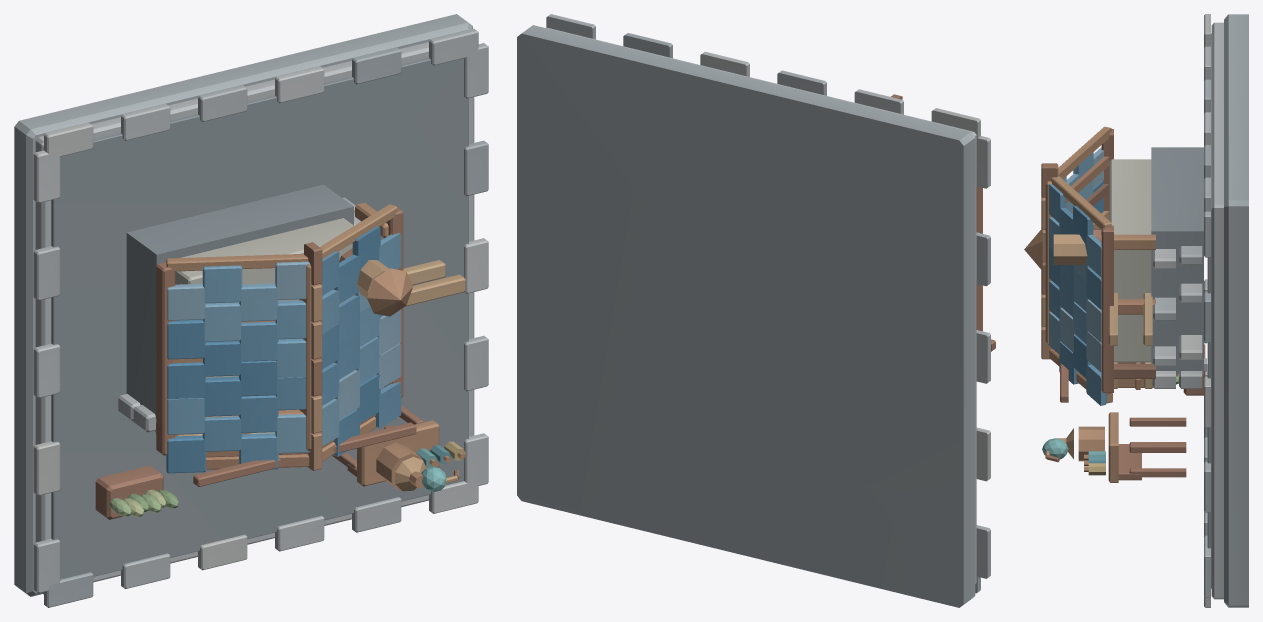
The model's file is alchemy_tower_stage_1.glb.
3 views of the same model, side by side, from view 1: azimuth 30°, elevation 25°; view 2: azimuth 150°, elevation 25°; view 3: azimuth 270°, elevation 25° (orthographic). The views are drawn at different scales.
Visible parts, largest first — view 1: alchemy_tower_stage_1_foundation_mortar_seam, alchemy_tower_stage_1_starter_stillhouse_board_roof_shingle_ (×37), alchemy_tower_stage_1_foundation_footing, alchemy_tower_stage_1_starter_stillhouse_ashlar_mortar_core, alchemy_tower_stage_1_foundation_cap, alchemy_tower_stage_1_starter_stillhouse_timber_upper_infill, alchemy_tower_stage_1_starter_stillhouse_board_roof_rafter_7 (×2), alchemy_tower_stage_1_starter_stillhouse_board_roof_left_eav, gable_crossbar, alchemy_tower_stage_1_herb_planter_trough, alchemy_tower_stage_1_front_still_bench_top, alchemy_tower_stage_1_starter_stillhouse_timber_right_double (×2) (+28 smaller); view 2: alchemy_tower_stage_1_foundation_footing, alchemy_tower_stage_1_foundation_cap, alchemy_tower_stage_1_foundation_back_paver_0, alchemy_tower_stage_1_foundation_left_paver_1, alchemy_tower_stage_1_foundation_left_paver_3, alchemy_tower_stage_1_foundation_left_paver_2, alchemy_tower_stage_1_foundation_left_paver_0, alchemy_tower_stage_1_foundation_left_paver_4, alchemy_tower_stage_1_foundation_back_paver_5, alchemy_tower_stage_1_foundation_back_paver_1, alchemy_tower_stage_1_foundation_back_paver_2, alchemy_tower_stage_1_foundation_back_paver_4 (+2 smaller); view 3: alchemy_tower_stage_1_foundation_footing, alchemy_tower_stage_1_starter_stillhouse_ashlar_mortar_core, alchemy_tower_stage_1_starter_stillhouse_board_roof_shingle_ (×16), alchemy_tower_stage_1_foundation_cap, alchemy_tower_stage_1_starter_stillhouse_timber_upper_infill, alchemy_tower_stage_1_starter_stillhouse_ashlar_right_course (×6), alchemy_tower_stage_1_starter_stillhouse_board_roof_right_ea, alchemy_tower_stage_1_starter_stillhouse_board_roof_rafter_7 (×2), alchemy_tower_stage_1_foundation_mortar_seam, alchemy_tower_stage_1_starter_copper_flue, alchemy_tower_stage_1_starter_stillhouse_timber_right_double (×2), alchemy_tower_stage_1_starter_stillhouse_ashlar_corner_quoin (×2) (+21 smaller).
Part boxes in pixels (x1,y1,x2,y2): alchemy_tower_stage_1_foundation_mortar_seam: [51, 58, 468, 579]; alchemy_tower_stage_1_starter_stillhouse_board_roof_shingle_ (×37): [166, 226, 401, 473]; alchemy_tower_stage_1_foundation_footing: [14, 14, 472, 596]; alchemy_tower_stage_1_starter_stillhouse_ashlar_mortar_core: [126, 184, 353, 418]; alchemy_tower_stage_1_foundation_cap: [35, 42, 474, 594]; alchemy_tower_stage_1_starter_stillhouse_timber_upper_infill: [175, 218, 353, 377]; alchemy_tower_stage_1_starter_stillhouse_board_roof_rafter_7 (×2): [166, 204, 397, 271]; alchemy_tower_stage_1_starter_stillhouse_board_roof_left_eav: [156, 262, 175, 455]; gable_crossbar: [193, 422, 416, 486]; alchemy_tower_stage_1_herb_planter_trough: [95, 465, 163, 519]; alchemy_tower_stage_1_front_still_bench_top: [357, 420, 439, 486]; alchemy_tower_stage_1_starter_stillhouse_timber_right_double (×2): [403, 260, 465, 306]; alchemy_tower_stage_1_foundation_footing: [517, 25, 975, 607]; alchemy_tower_stage_1_foundation_cap: [546, 27, 976, 583]; alchemy_tower_stage_1_foundation_back_paver_0: [931, 108, 980, 144]; alchemy_tower_stage_1_foundation_left_paver_1: [976, 427, 990, 481]; alchemy_tower_stage_1_foundation_left_paver_3: [976, 232, 990, 286]; alchemy_tower_stage_1_foundation_left_paver_2: [976, 330, 990, 383]; alchemy_tower_stage_1_foundation_left_paver_0: [976, 525, 990, 578]; alchemy_tower_stage_1_foundation_left_paver_4: [976, 136, 990, 188]; alchemy_tower_stage_1_foundation_back_paver_5: [546, 14, 595, 39]; alchemy_tower_stage_1_foundation_back_paver_1: [854, 89, 903, 114]; alchemy_tower_stage_1_foundation_back_paver_2: [777, 70, 826, 95]; alchemy_tower_stage_1_foundation_back_paver_4: [623, 33, 672, 58]; alchemy_tower_stage_1_foundation_footing: [1224, 14, 1248, 607]; alchemy_tower_stage_1_starter_stillhouse_ashlar_mortar_core: [1151, 147, 1203, 374]; alchemy_tower_stage_1_starter_stillhouse_board_roof_shingle_ (×16): [1048, 184, 1106, 405]; alchemy_tower_stage_1_foundation_cap: [1211, 22, 1223, 599]; alchemy_tower_stage_1_starter_stillhouse_timber_upper_infill: [1109, 159, 1151, 362]; alchemy_tower_stage_1_starter_stillhouse_ashlar_right_course (×6): [1153, 246, 1202, 366]; alchemy_tower_stage_1_starter_stillhouse_board_roof_right_ea: [1101, 225, 1113, 392]; alchemy_tower_stage_1_starter_stillhouse_board_roof_rafter_7 (×2): [1051, 126, 1111, 229]; alchemy_tower_stage_1_foundation_mortar_seam: [1207, 33, 1211, 588]; alchemy_tower_stage_1_starter_copper_flue: [1053, 234, 1101, 264]; alchemy_tower_stage_1_starter_stillhouse_timber_right_double (×2): [1108, 293, 1152, 345]; alchemy_tower_stage_1_starter_stillhouse_ashlar_corner_quoin (×2): [1152, 371, 1202, 388].
Size of the model in its own units: 2.93 by 2.93 by 1.45.
